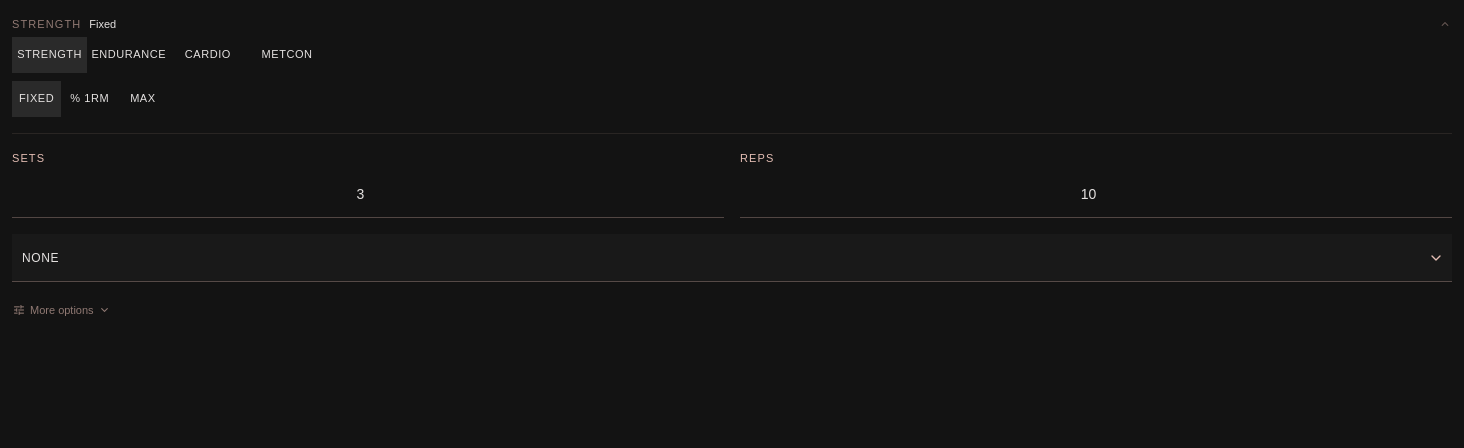
Test case: SetSchemeEditor › renders REST and AMRAP in More options for fixedSets
Click the button "More options" at (62,310), box [12,298,112,322]
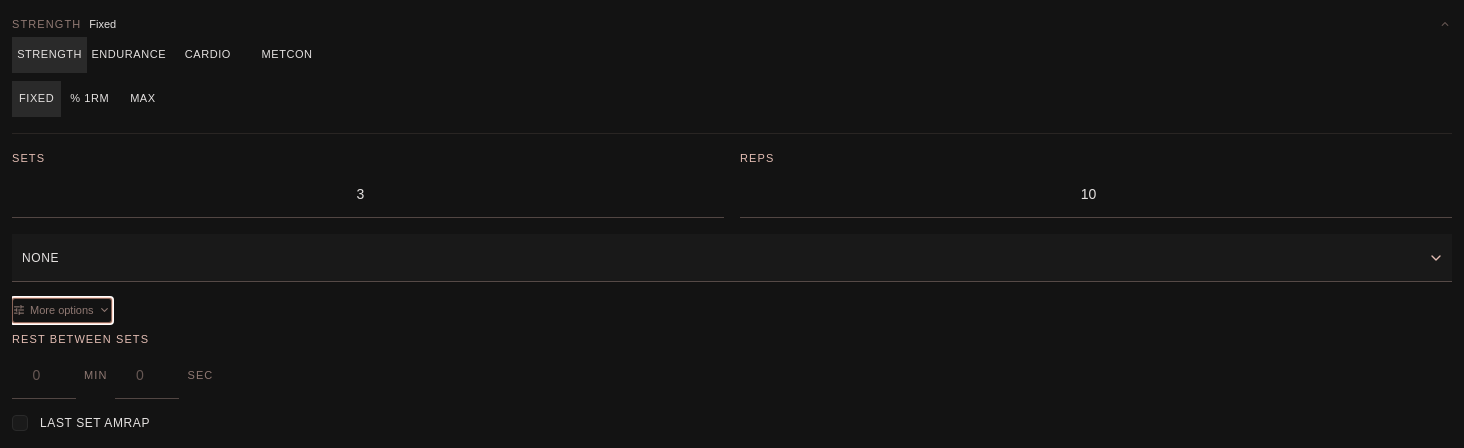
Expected: the text "REST BETWEEN SETS" is shown, [12,332,149,344]
Expected: the text "LAST SET AMRAP" is shown, [40,415,150,431]
